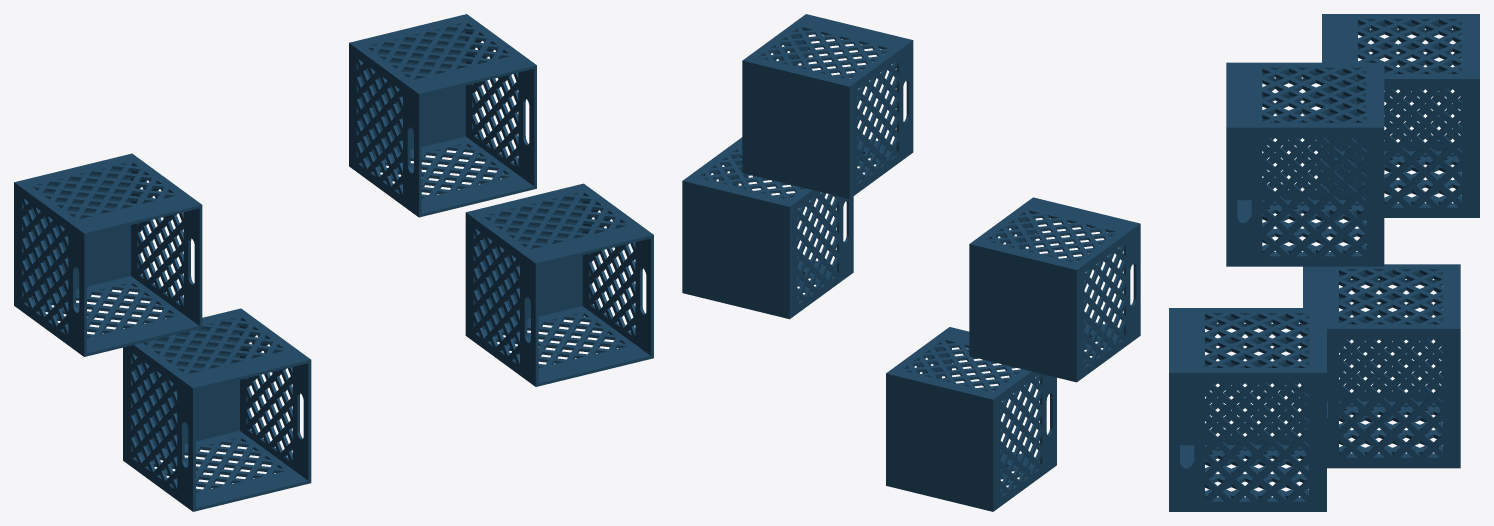
File: Task03_Recon_Blood23_Fire14_crate_blue.obj
3 views of the same model, side by side, from view 1: azimuth 30°, elevation 25°; view 2: azimuth 150°, elevation 25°; view 3: azimuth 270°, elevation 25° (orthographic). The views are drawn at different scales.
Visible parts, largest first — view 1: bin1, bin4, bin3, bin2; view 2: bin1, bin3, bin2, bin4; view 3: bin3, bin4, bin2, bin1.
Part boxes in pixels (x1,y1,x2,y2): bin1: [14, 153, 202, 356]; bin4: [465, 183, 653, 386]; bin3: [349, 14, 536, 217]; bin2: [123, 308, 311, 511]; bin1: [969, 197, 1140, 382]; bin3: [742, 14, 913, 198]; bin2: [886, 327, 1056, 511]; bin4: [682, 137, 853, 319]; bin3: [1226, 62, 1384, 266]; bin4: [1169, 308, 1326, 511]; bin2: [1303, 264, 1460, 468]; bin1: [1322, 14, 1479, 217].
Size of the model in its own units: 1.16 by 0.8712 by 0.5504.
